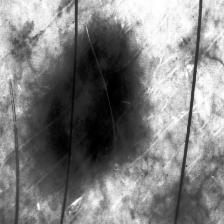Benign Marking or Mole: (42, 30, 138, 184)
